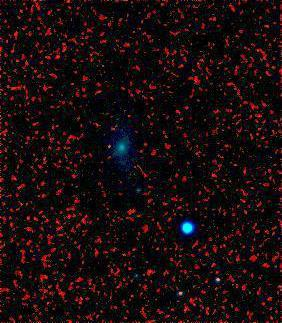star: (94, 133, 124, 163)
